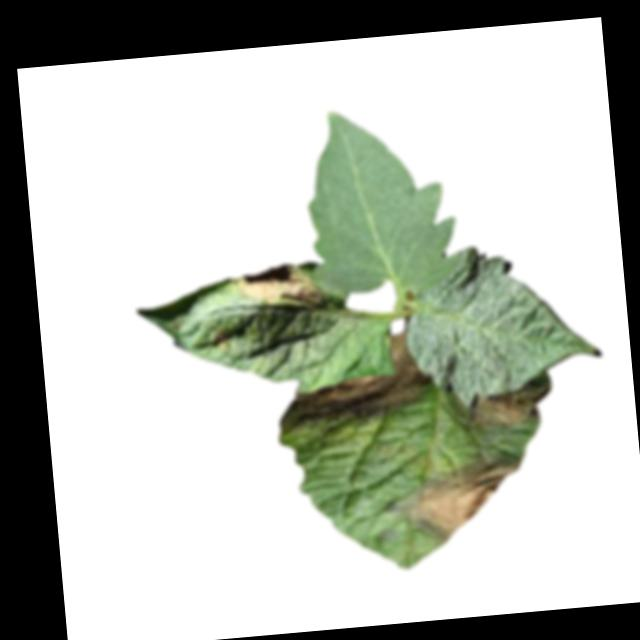Late_blight: (272, 329, 432, 435), (382, 454, 529, 549), (233, 260, 325, 315), (463, 387, 550, 432)
